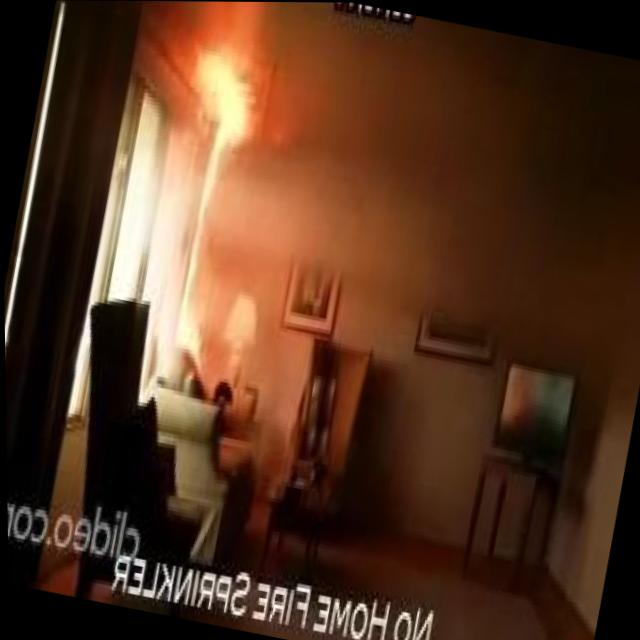fire: (169, 64, 264, 354), (192, 42, 272, 112)
